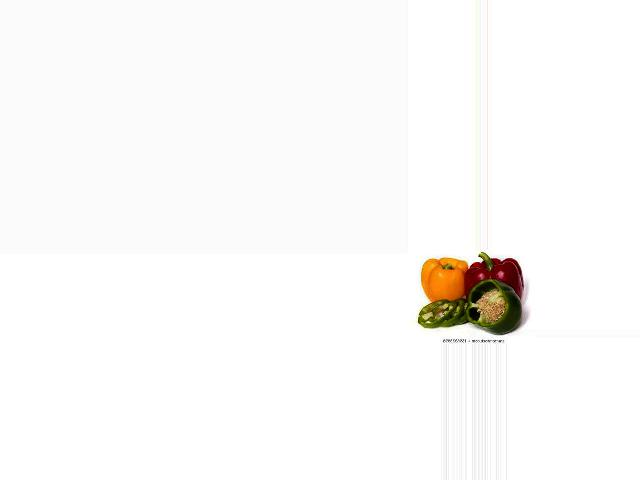bell_pepper: (465, 277, 527, 330)
